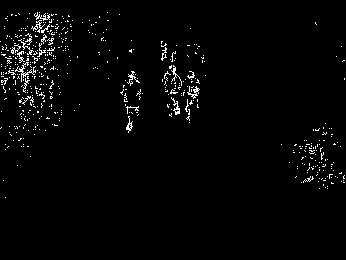person: (120, 69, 142, 133), (161, 64, 183, 118), (181, 69, 201, 123)
